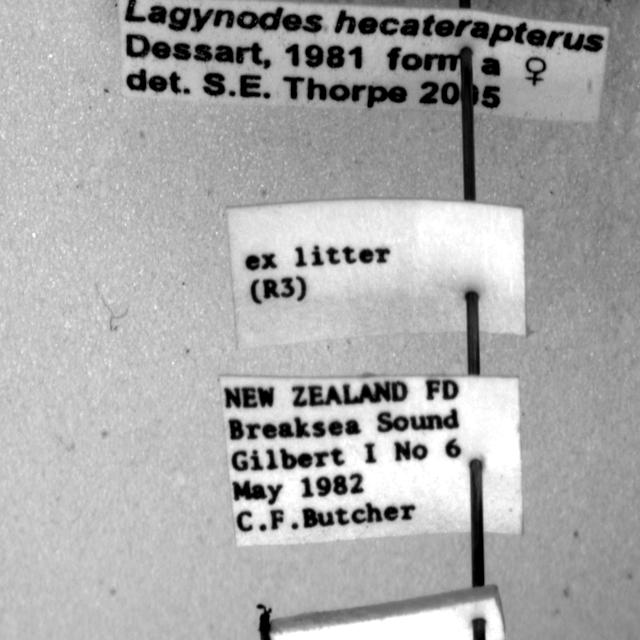typed_label: (119, 0, 609, 122), (220, 377, 522, 546), (228, 201, 526, 347)
